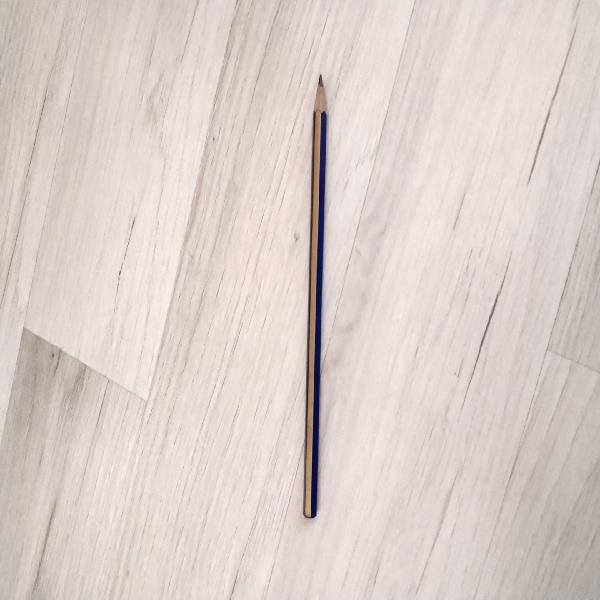pencil: (303, 75, 327, 518)
